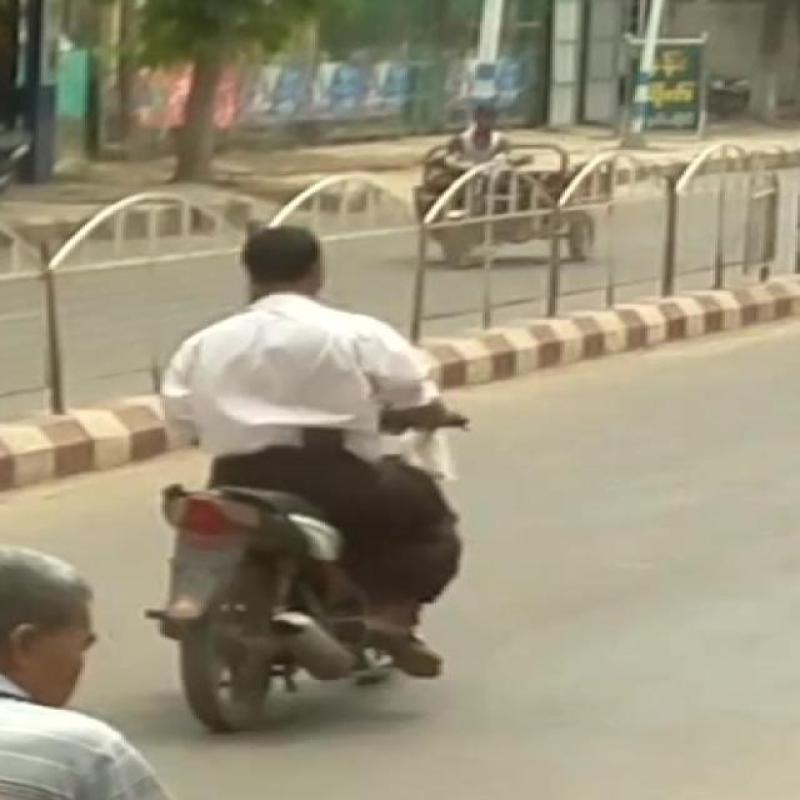nohelmet: (218, 226, 370, 324)
